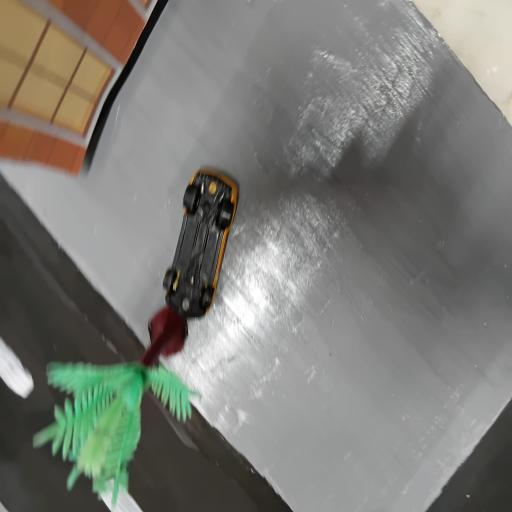car crash: (160, 159, 238, 324)
